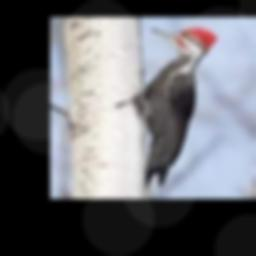Woodpecker: (136, 28, 217, 189)
